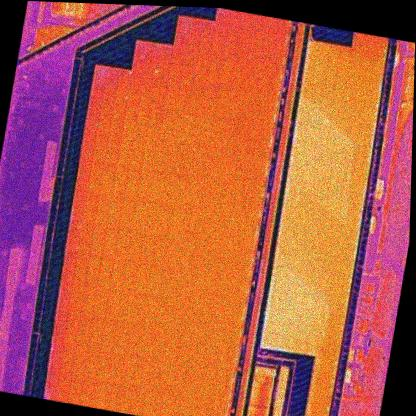Hotspot: (119, 352, 139, 389), (183, 270, 202, 304), (131, 198, 149, 233), (175, 237, 194, 270), (186, 176, 204, 210), (145, 42, 163, 76), (219, 213, 236, 248), (65, 220, 83, 253), (115, 70, 133, 103), (167, 140, 184, 174), (179, 142, 196, 176), (86, 96, 103, 129), (172, 111, 189, 144), (159, 109, 176, 141)
Normal: (193, 207, 213, 244), (94, 348, 114, 385), (196, 271, 215, 307), (75, 315, 94, 351), (226, 151, 245, 186), (190, 144, 209, 179), (173, 330, 192, 365), (158, 265, 176, 301), (219, 274, 237, 310), (180, 207, 199, 241), (154, 139, 173, 173), (232, 120, 251, 154), (237, 88, 256, 122), (169, 46, 188, 80), (136, 325, 155, 359), (140, 230, 158, 265), (203, 146, 221, 181), (134, 103, 152, 138), (213, 85, 231, 120), (132, 41, 150, 76), (83, 348, 101, 383), (112, 321, 130, 356), (124, 323, 142, 358), (149, 326, 167, 361), (178, 301, 197, 334), (189, 240, 208, 273), (253, 61, 272, 94), (258, 31, 277, 64), (58, 345, 77, 378), (56, 281, 74, 315), (129, 293, 147, 327), (105, 288, 123, 322), (191, 304, 209, 338), (85, 253, 103, 287), (109, 257, 127, 291), (208, 274, 226, 308), (151, 233, 169, 267), (107, 194, 125, 228), (144, 200, 162, 234), (111, 163, 129, 197), (149, 169, 167, 203), (137, 167, 155, 201), (92, 128, 110, 162), (104, 130, 122, 164), (129, 135, 147, 169), (214, 149, 232, 183), (122, 101, 140, 135), (102, 68, 120, 102), (164, 77, 182, 111), (139, 73, 157, 107), (188, 82, 206, 116), (194, 50, 212, 84), (144, 358, 162, 392), (133, 356, 151, 390), (107, 351, 125, 385), (63, 313, 81, 347), (100, 319, 118, 353), (146, 264, 163, 299), (83, 189, 100, 224), (241, 217, 258, 252), (177, 79, 194, 114), (81, 285, 99, 318), (68, 283, 86, 316), (141, 295, 159, 328), (117, 291, 135, 324), (154, 297, 172, 330), (215, 308, 233, 341), (61, 251, 79, 284), (121, 260, 139, 293), (114, 228, 132, 261), (102, 226, 120, 259), (97, 98, 115, 131), (109, 100, 127, 133), (208, 115, 226, 148), (151, 76, 169, 109), (206, 53, 224, 86), (230, 56, 248, 89), (218, 54, 236, 87), (199, 21, 217, 54), (46, 342, 64, 375), (181, 364, 199, 397), (169, 362, 187, 395), (193, 367, 211, 400), (186, 334, 204, 367), (241, 60, 260, 91), (135, 262, 152, 296), (171, 268, 188, 302), (90, 223, 107, 257), (127, 229, 144, 263), (119, 196, 136, 230), (206, 211, 223, 245), (201, 83, 218, 117), (206, 369, 223, 403), (161, 329, 178, 363), (211, 23, 229, 55), (174, 17, 192, 49), (114, 384, 133, 414), (203, 307, 220, 340), (93, 287, 110, 320), (73, 253, 90, 286), (98, 256, 115, 289), (95, 193, 112, 226), (230, 216, 247, 249), (75, 158, 92, 191), (100, 162, 117, 195), (88, 159, 105, 192), (174, 174, 191, 207), (250, 157, 267, 190), (184, 113, 201, 146), (220, 118, 237, 151), (127, 71, 144, 104), (260, 94, 277, 127), (250, 91, 267, 124), (157, 359, 174, 392), (52, 312, 69, 345), (88, 317, 105, 350), (72, 187, 88, 222), (78, 222, 95, 254), (164, 235, 180, 269), (162, 172, 179, 204), (125, 166, 142, 198), (198, 179, 215, 211), (240, 154, 256, 188), (117, 133, 134, 165), (147, 107, 164, 139), (196, 115, 213, 147), (244, 123, 261, 155), (182, 49, 199, 81), (248, 28, 264, 62), (70, 348, 87, 380), (199, 337, 216, 369), (212, 339, 229, 371), (222, 185, 240, 215), (231, 279, 247, 312), (92, 66, 108, 99), (226, 87, 242, 120), (217, 371, 233, 404), (166, 300, 183, 331), (202, 244, 219, 275), (157, 204, 174, 235), (264, 64, 281, 95), (224, 25, 241, 56), (128, 387, 146, 416), (169, 206, 185, 238), (82, 128, 98, 160), (143, 137, 159, 169), (256, 125, 272, 157), (157, 45, 173, 77), (236, 27, 252, 59), (228, 309, 243, 343), (270, 35, 287, 65), (237, 249, 253, 280), (211, 181, 227, 212), (187, 20, 203, 51), (55, 374, 72, 403), (91, 381, 108, 410), (235, 187, 252, 216), (226, 248, 242, 278), (43, 373, 60, 401), (103, 383, 120, 411), (246, 190, 263, 218), (152, 390, 170, 416), (79, 378, 95, 407), (214, 247, 230, 276), (140, 389, 157, 416), (68, 377, 83, 405), (224, 343, 238, 372), (165, 393, 182, 416), (177, 395, 194, 416), (189, 396, 205, 416), (202, 400, 218, 416), (213, 402, 228, 416)
